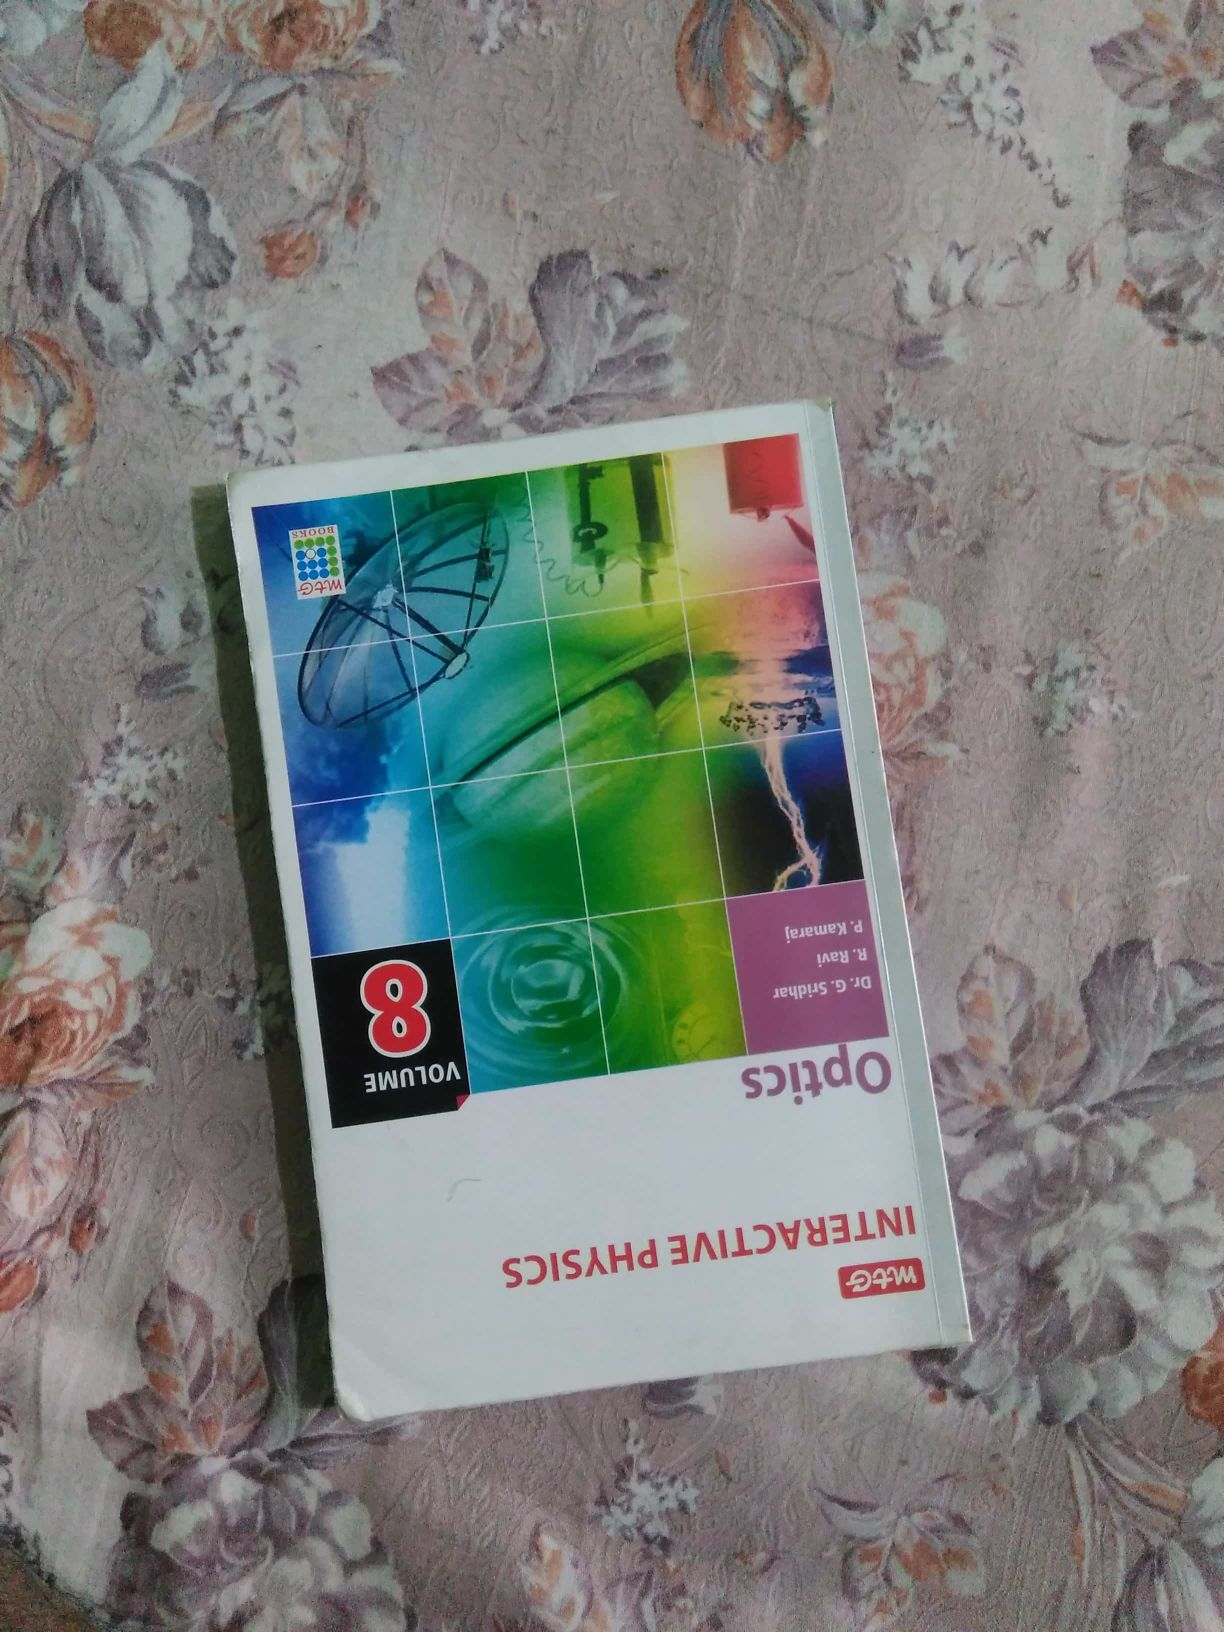optics: (203, 415, 1029, 1439)
